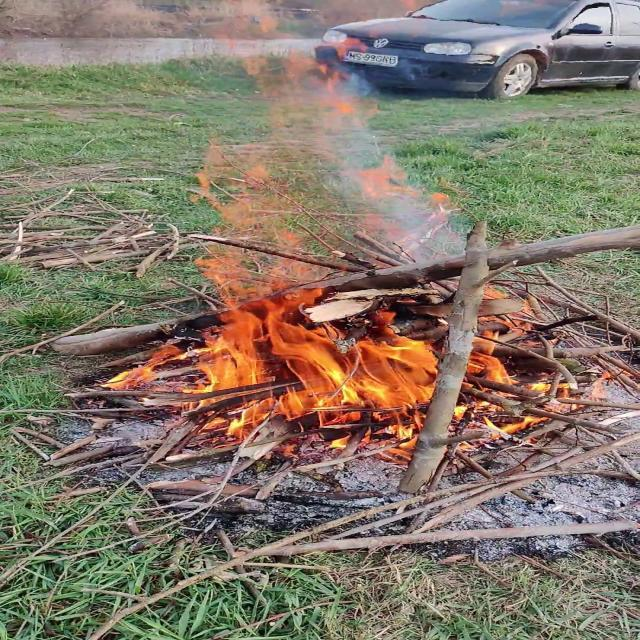Fire: (67, 66, 594, 455), (69, 70, 402, 450), (68, 226, 592, 454)
